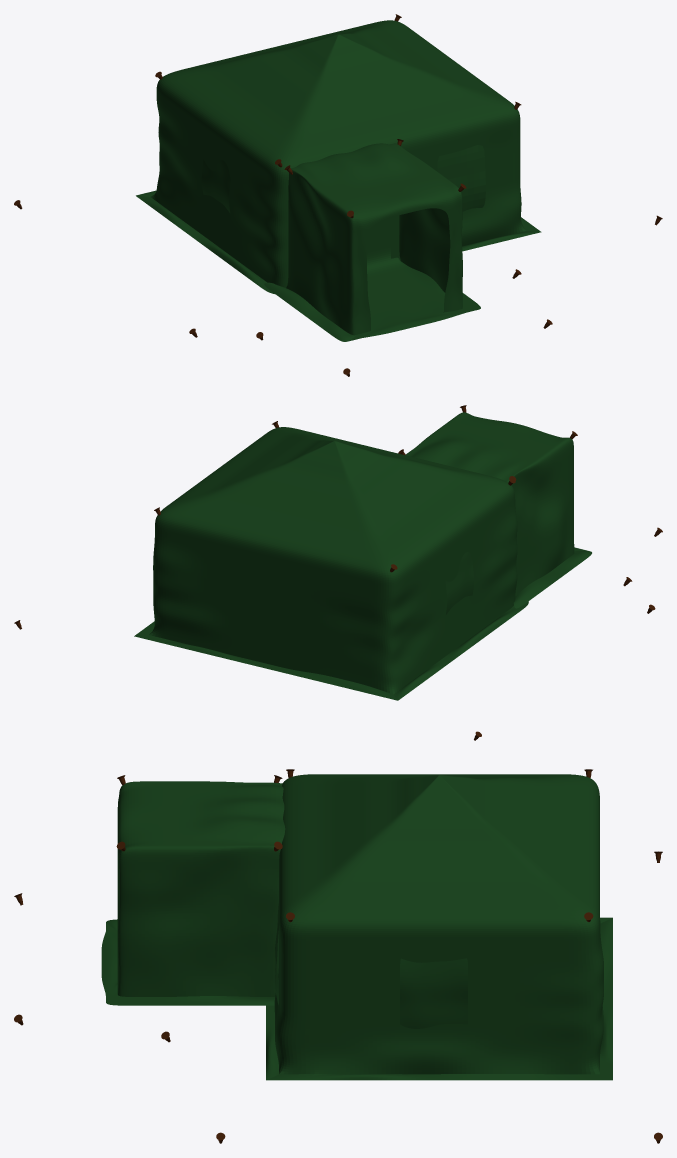
File: Barrack 01.fbx
The picture shows the model from 3 angles, top to bottom: view 1: azimuth 30°, elevation 25°; view 2: azimuth 150°, elevation 25°; view 3: azimuth 270°, elevation 25°; orthographic projection. The views are drawn at different scales.
Parts seen in each view (by area): view 1: Cube, Cube.001, Plane, Plane.002; view 2: Cube, Cube.001, Plane.002; view 3: Cube, Cube.001, Plane.001.
Part boxes in pixels (left/top/right/bottom): Cube: left=136, top=20, right=541, bottom=293; Cube.001: left=264, top=143, right=480, bottom=341; Plane: left=437, top=145, right=485, bottom=211; Plane.002: left=201, top=159, right=230, bottom=213; Cube: left=134, top=427, right=528, bottom=700; Cube.001: left=405, top=412, right=591, bottom=608; Plane.002: left=445, top=552, right=473, bottom=614; Cube: left=266, top=774, right=612, bottom=1080; Cube.001: left=101, top=781, right=285, bottom=1005; Plane.001: left=400, top=958, right=467, bottom=1028.
Size of the model in its own units: 831 by 307 by 792.
